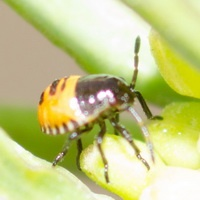insect: (38, 36, 161, 182)
